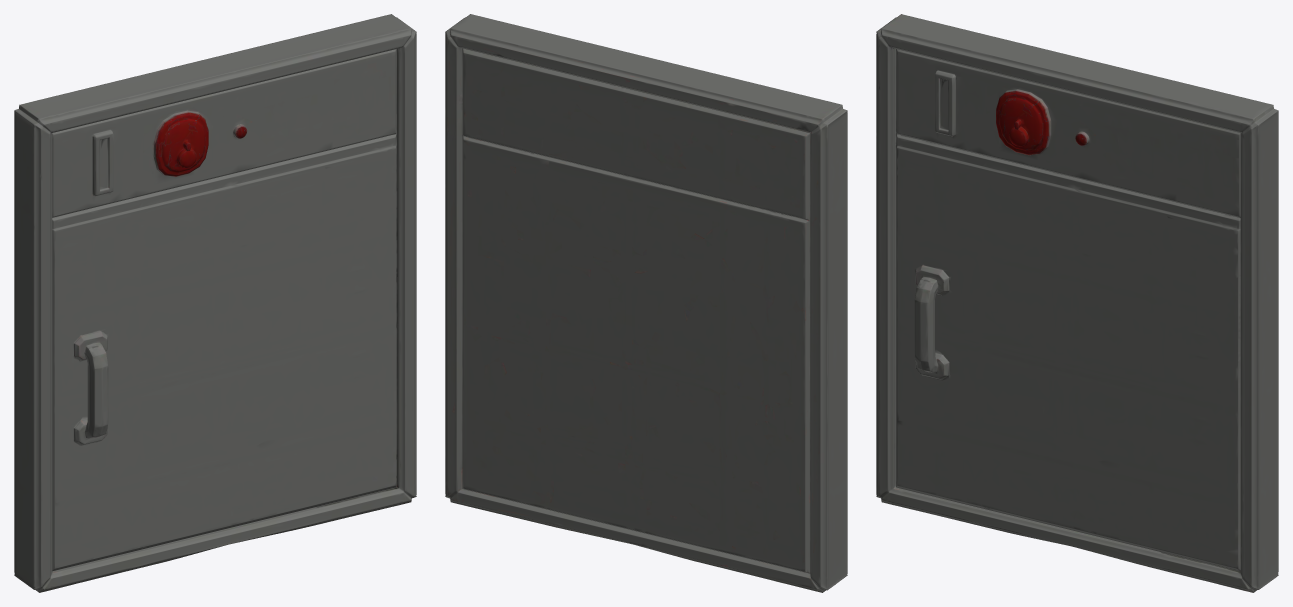
The model's file is extinguisher.glb.
3 renders of one model, left to right at view 1: azimuth 30°, elevation 25°; view 2: azimuth 150°, elevation 25°; view 3: azimuth 330°, elevation 25°, orthographic.
Parts seen in each view (by area): view 1: node_id5; view 2: node_id5; view 3: node_id5.
Boxes of the visible parts, <box> form: node_id5: <box>14,14,416,592</box>; node_id5: <box>445,14,847,592</box>; node_id5: <box>876,14,1278,592</box>.
Bounding box in the file's own units: 0.4323 × 0.512 × 0.0673.
Materials: 1 (1 with a texture image).
